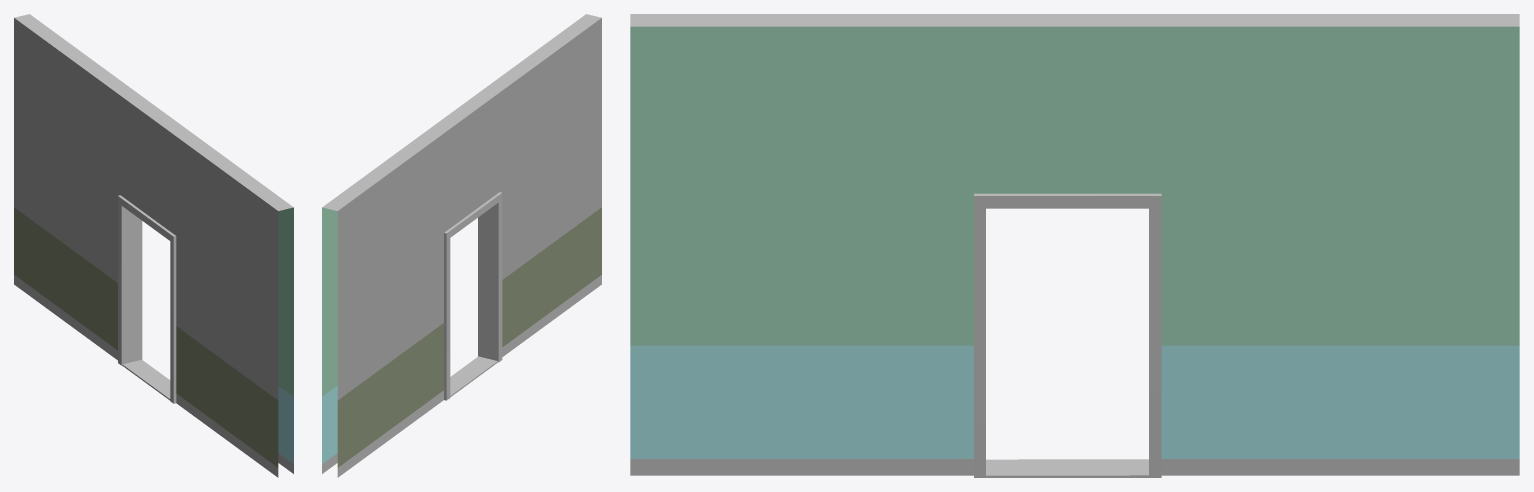
File: SM_DoorFrame_600.fbx
The picture shows the model from 3 angles, left to right: view 1: azimuth 30°, elevation 25°; view 2: azimuth 150°, elevation 25°; view 3: azimuth 270°, elevation 25°; orthographic projection. The views are drawn at different scales.
Visible parts, largest first — view 1: SM_DoorFrame_600; view 2: SM_DoorFrame_600; view 3: SM_DoorFrame_600.
Part boxes in pixels (x1,y1,x2,y2): SM_DoorFrame_600: [14, 14, 293, 477]; SM_DoorFrame_600: [322, 14, 601, 477]; SM_DoorFrame_600: [630, 14, 1519, 477].
Bounding box in the file's own units: 27.43 × 335 × 600.
